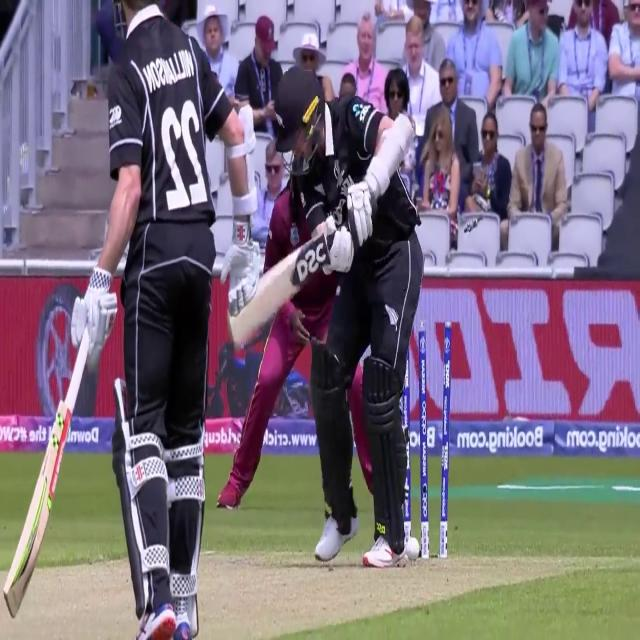ball: (404, 533, 422, 567)
